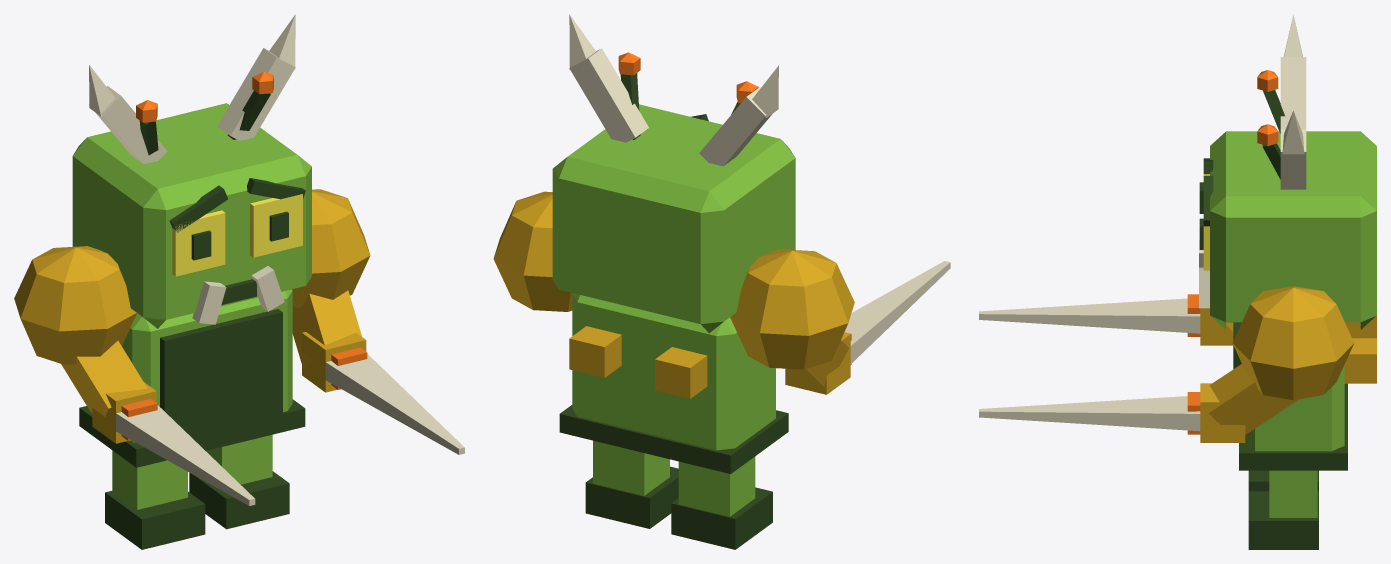
File: warlord_r10.glb
The picture shows the model from 3 angles, left to right: view 1: azimuth 30°, elevation 25°; view 2: azimuth 150°, elevation 25°; view 3: azimuth 270°, elevation 25°; orthographic projection. The views are drawn at different scales.
Visible parts, largest first — view 1: warlord_r10_mesh; view 2: warlord_r10_mesh; view 3: warlord_r10_mesh.
Part boxes in pixels (<box>): warlord_r10_mesh: <box>14,14,464,549</box>; warlord_r10_mesh: <box>493,14,950,549</box>; warlord_r10_mesh: <box>979,14,1376,549</box>.
Size of the model in its own units: 2.72 by 3.6 by 2.86.
1 material, 1 textured.
